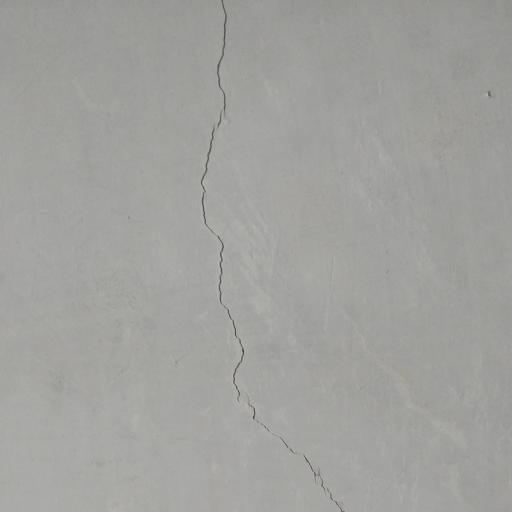minor_crack: (191, 0, 353, 512)
